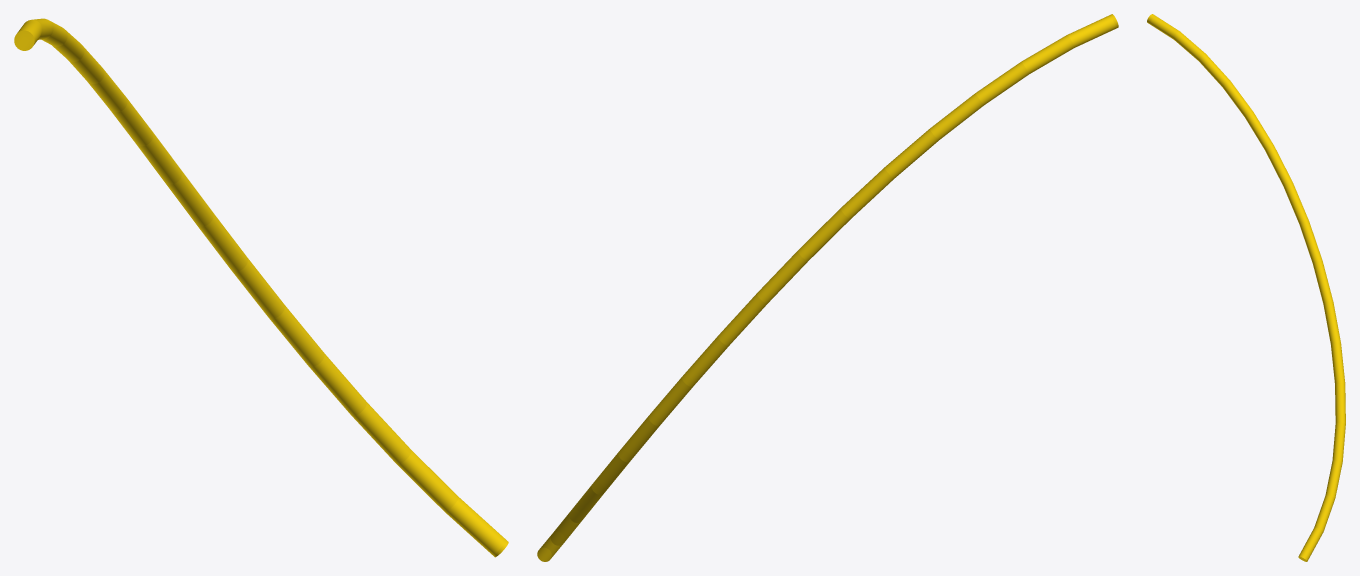
Rendered from Event_420094457_track_88.fbx.
3 renders of one model, left to right at view 1: azimuth 30°, elevation 25°; view 2: azimuth 150°, elevation 25°; view 3: azimuth 270°, elevation 25°, orthographic. The views are drawn at different scales.
Parts seen in each view (by area): view 1: Model; view 2: Model; view 3: Model.
Part boxes in pixels (x1,y1,x2,y2): Model: (14, 18, 508, 557); Model: (537, 14, 1118, 561); Model: (1147, 14, 1345, 561).
Bounding box in the file's own units: 1.44 × 1.68 × 0.7678.
